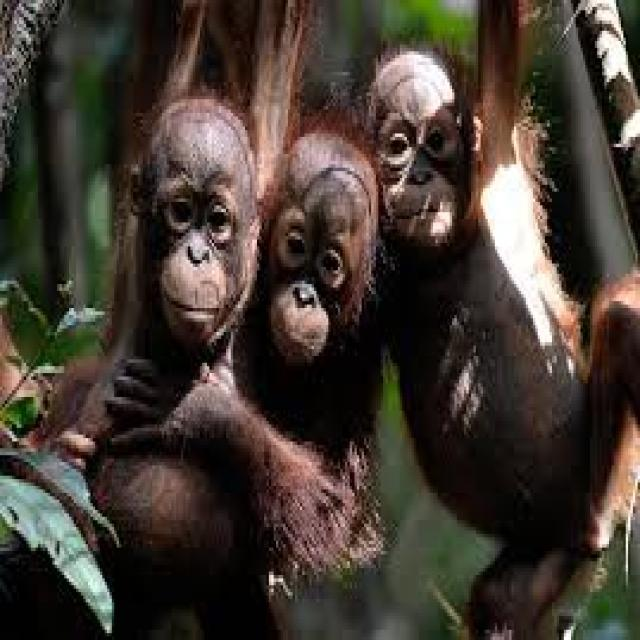Orangutan: (376, 20, 640, 588), (21, 90, 263, 578), (258, 121, 392, 546)
